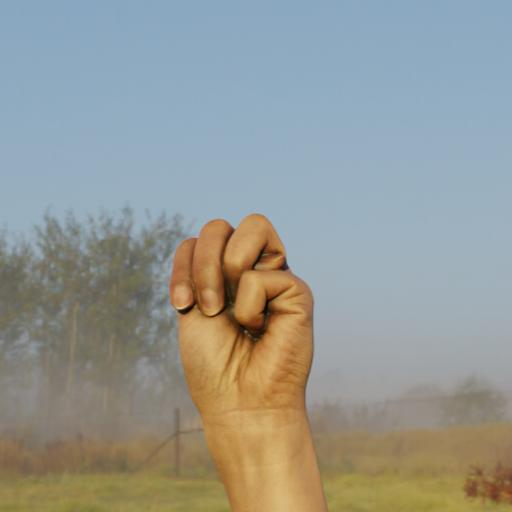M: (155, 196, 322, 447)
